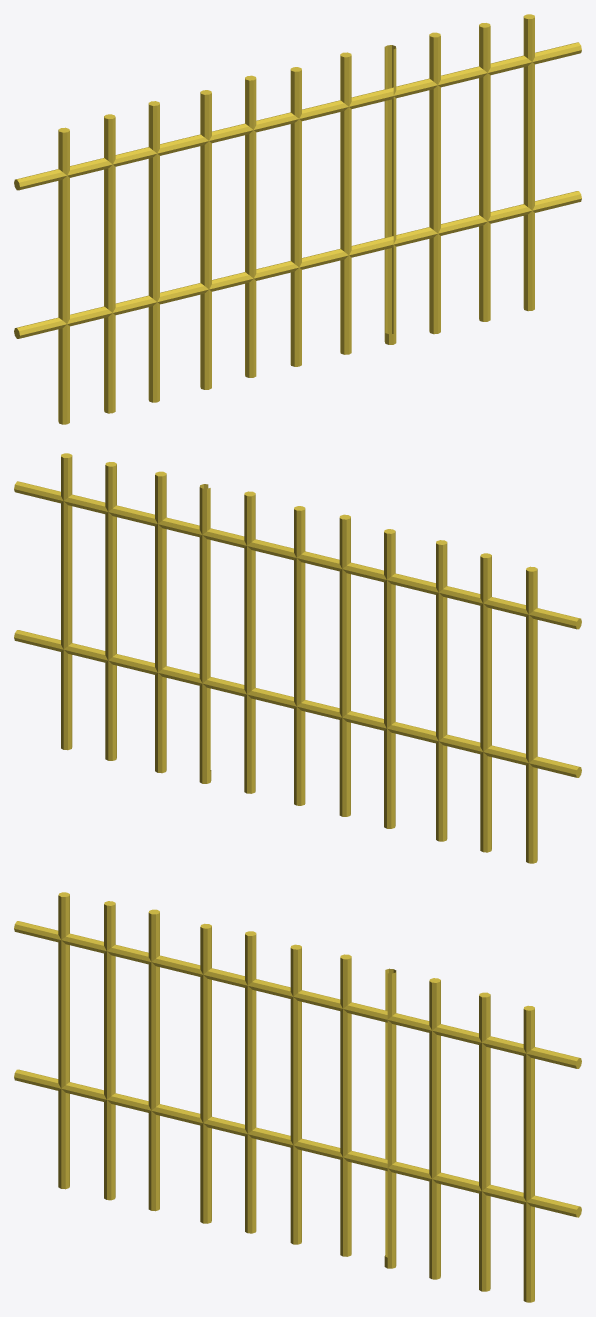
The model's file is Exp_RegularGate.fbx.
3 renders of one model, top to bottom at view 1: azimuth 30°, elevation 25°; view 2: azimuth 150°, elevation 25°; view 3: azimuth 330°, elevation 25°, orthographic.
Visible parts, largest first — view 1: Regular gate; view 2: Regular gate; view 3: Regular gate.
Part boxes in pixels (x1,y1,x2,y2): Regular gate: (14, 14, 581, 424); Regular gate: (14, 453, 581, 863); Regular gate: (14, 892, 581, 1302).
Bounding box in the file's own units: 1196 × 607 × 22.01.
